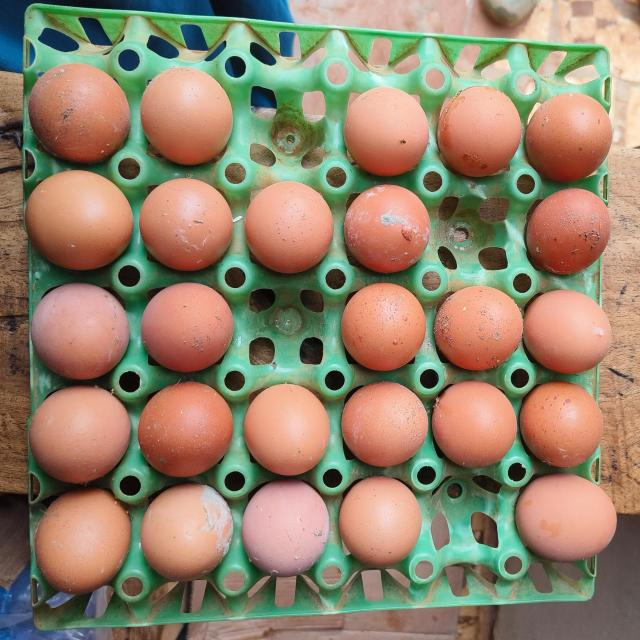Eggs: (31, 168, 132, 282), (33, 289, 134, 389), (26, 68, 135, 160), (139, 174, 236, 276), (248, 183, 338, 287), (29, 501, 130, 593), (140, 70, 236, 166), (522, 482, 618, 570), (348, 81, 432, 181), (145, 284, 235, 377), (35, 395, 130, 482), (140, 493, 232, 582), (443, 86, 525, 185), (140, 396, 235, 481), (244, 490, 331, 581), (436, 290, 526, 377), (528, 377, 612, 468), (531, 95, 614, 186), (439, 386, 520, 476), (350, 189, 430, 280), (349, 288, 430, 377), (344, 483, 421, 576), (248, 390, 332, 475), (535, 190, 611, 281), (531, 291, 614, 373), (346, 393, 430, 471)
